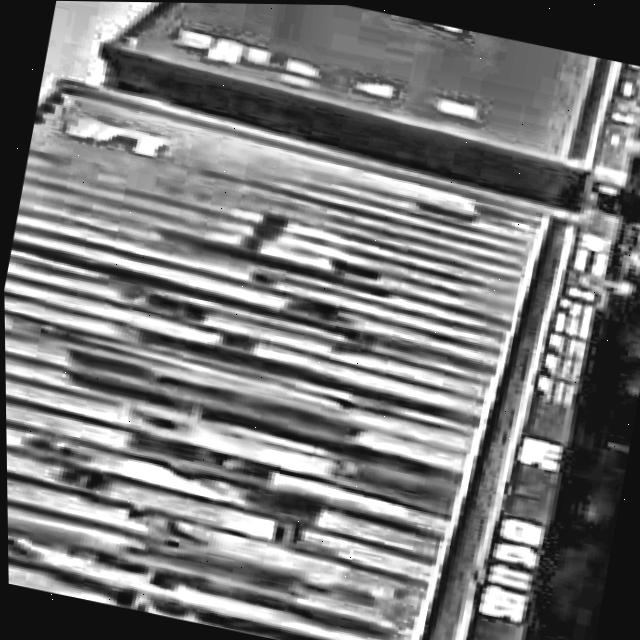Gerbong: (1, 47, 640, 640), (35, 0, 640, 236)
